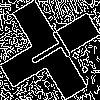T: (25, 25, 80, 74)
